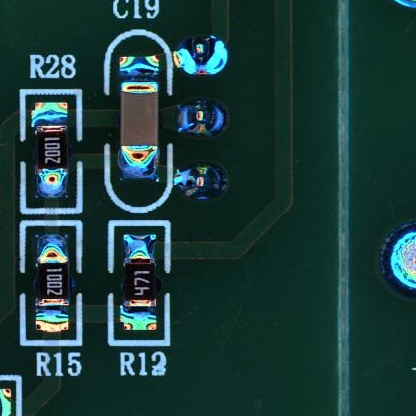spot: (173, 162, 229, 201), (177, 34, 228, 76), (176, 99, 226, 137)
